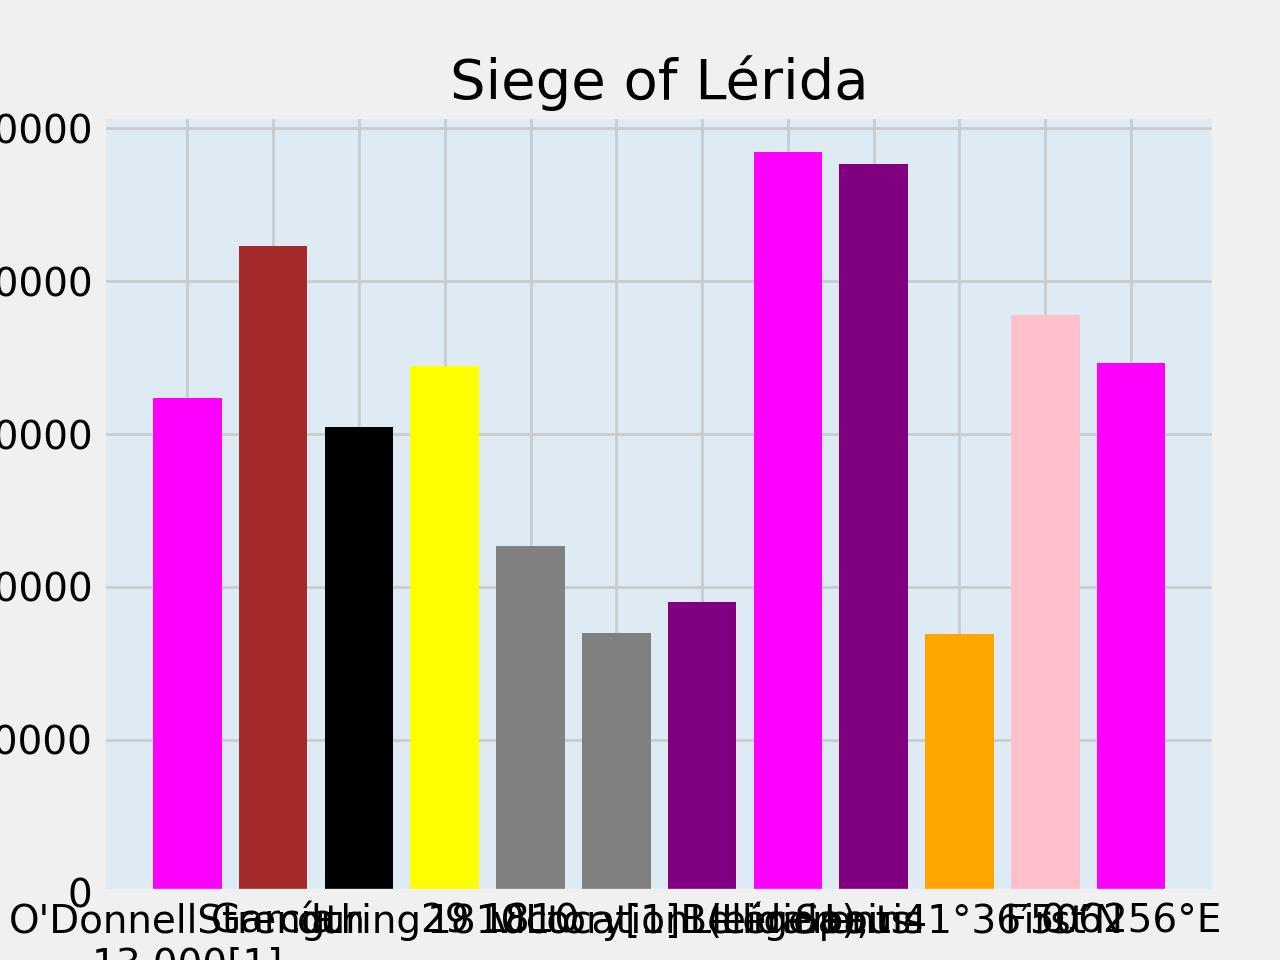axis: (0, 113, 93, 916)
rectangle: (754, 152, 822, 893), (839, 164, 908, 893), (239, 246, 307, 893), (1011, 315, 1080, 893), (1097, 363, 1165, 893), (410, 365, 479, 892), (153, 398, 222, 892), (325, 427, 393, 893), (496, 547, 565, 892), (667, 602, 737, 893), (582, 633, 651, 893), (925, 634, 994, 893)
